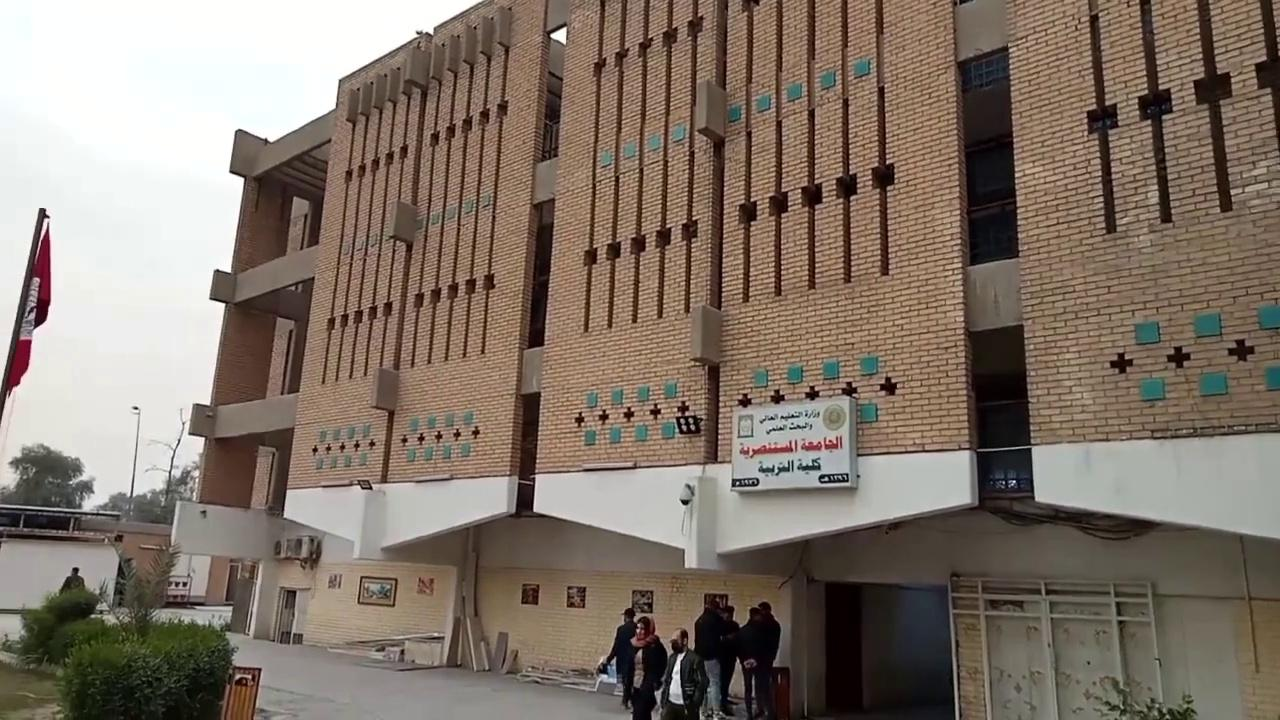person: (657, 627, 708, 719), (626, 615, 667, 719), (603, 607, 638, 710), (753, 601, 781, 719), (717, 605, 741, 716), (58, 566, 84, 594)
tree: (0, 537, 237, 720), (55, 615, 238, 718), (5, 585, 107, 669), (4, 441, 95, 509), (110, 539, 181, 615), (1081, 674, 1197, 719), (144, 459, 198, 504)
